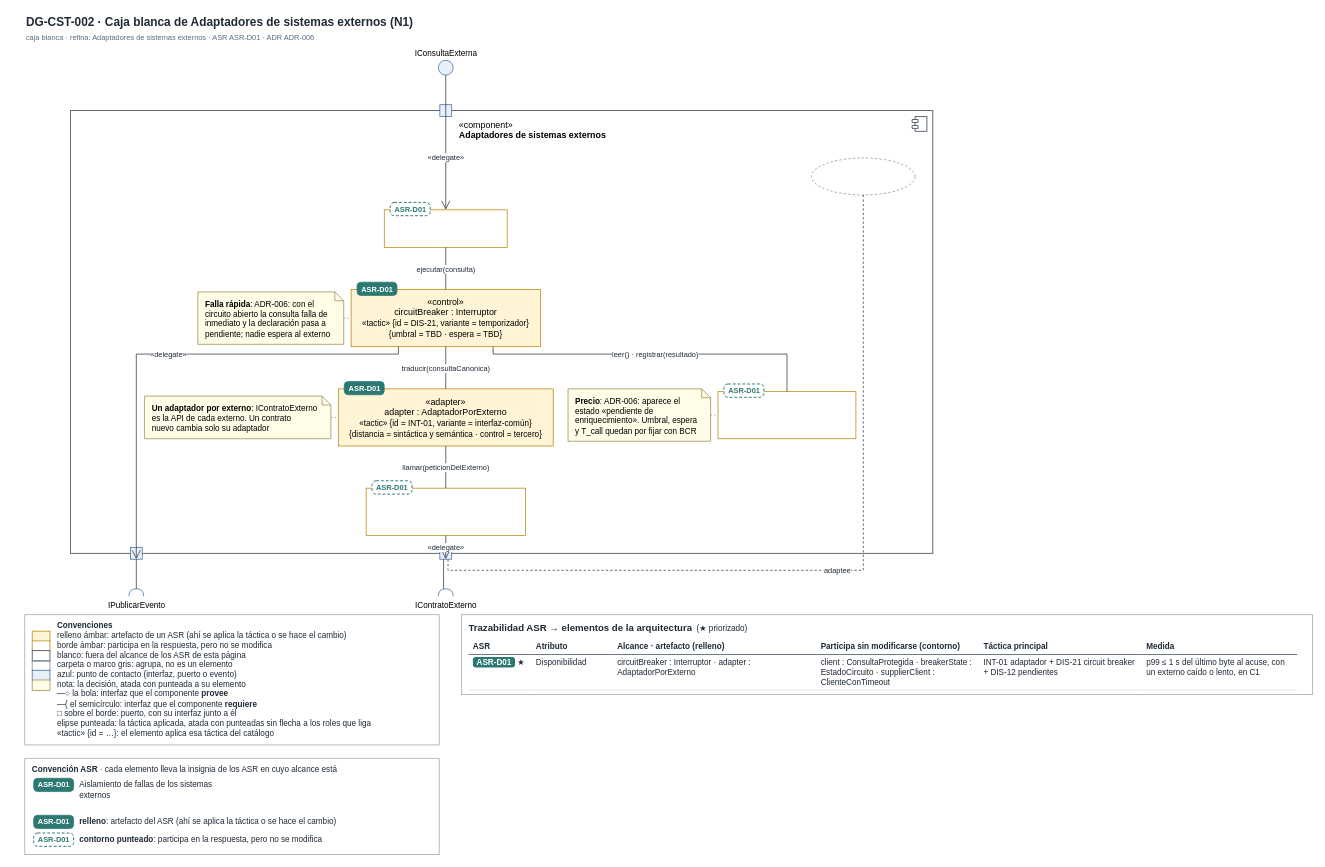
Image size: 1325x867. Some labels were removed from this diagram. The centre of each missing label's shape, as x and y in pixels:
"breakerEvents : IPublicarEvento" goes at [136,553].
"INT-01 : Adapter" goes at [863,176].
"supplier : IContratoExterno" goes at [445,553].
"target : IConsultaExterna" goes at [445,110].
"«adapter» supplierClient : ClienteConTimeout {T_call = TBD}" goes at [445,511].
"«control» client : ConsultaProtegida" goes at [445,228].
"«entity» breakerState : EstadoCircuito {uno por sistema externo}" goes at [786,415].
